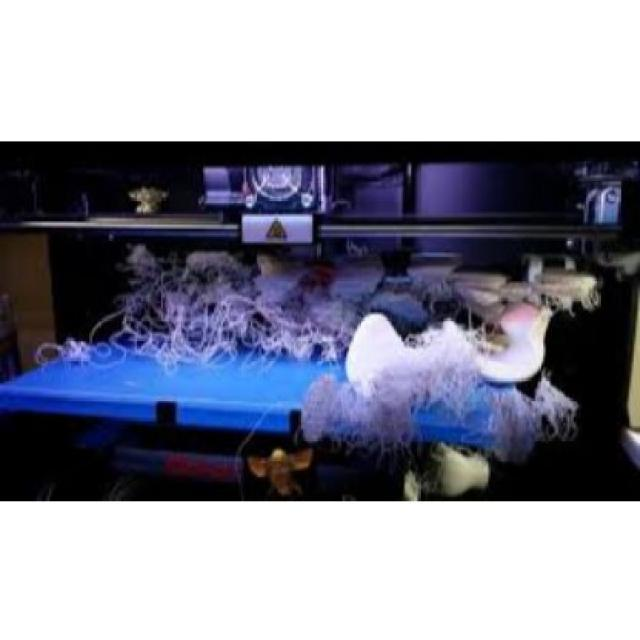spaghetti: (38, 252, 580, 465)
